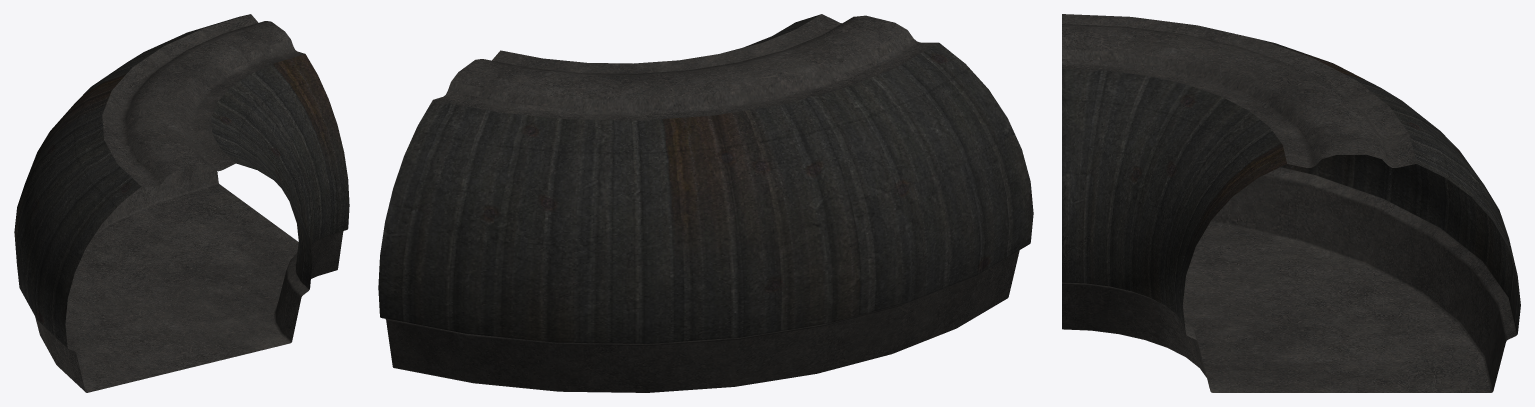
File: tunnel_ancle.fbx
3 views of the same model, side by side, from view 1: azimuth 30°, elevation 25°; view 2: azimuth 150°, elevation 25°; view 3: azimuth 270°, elevation 25° (orthographic). The views are drawn at different scales.
Parts seen in each view (by area): view 1: tunnel_ancle; view 2: tunnel_ancle; view 3: tunnel_ancle.
Part boxes in pixels (x1,y1,x2,y2): tunnel_ancle: (14, 14, 349, 392); tunnel_ancle: (378, 14, 1033, 392); tunnel_ancle: (1062, 14, 1520, 392).
Size of the model in its own units: 4.75 by 4.75 by 2.72.
